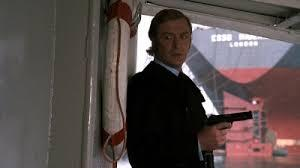handgun: (207, 110, 253, 148)
